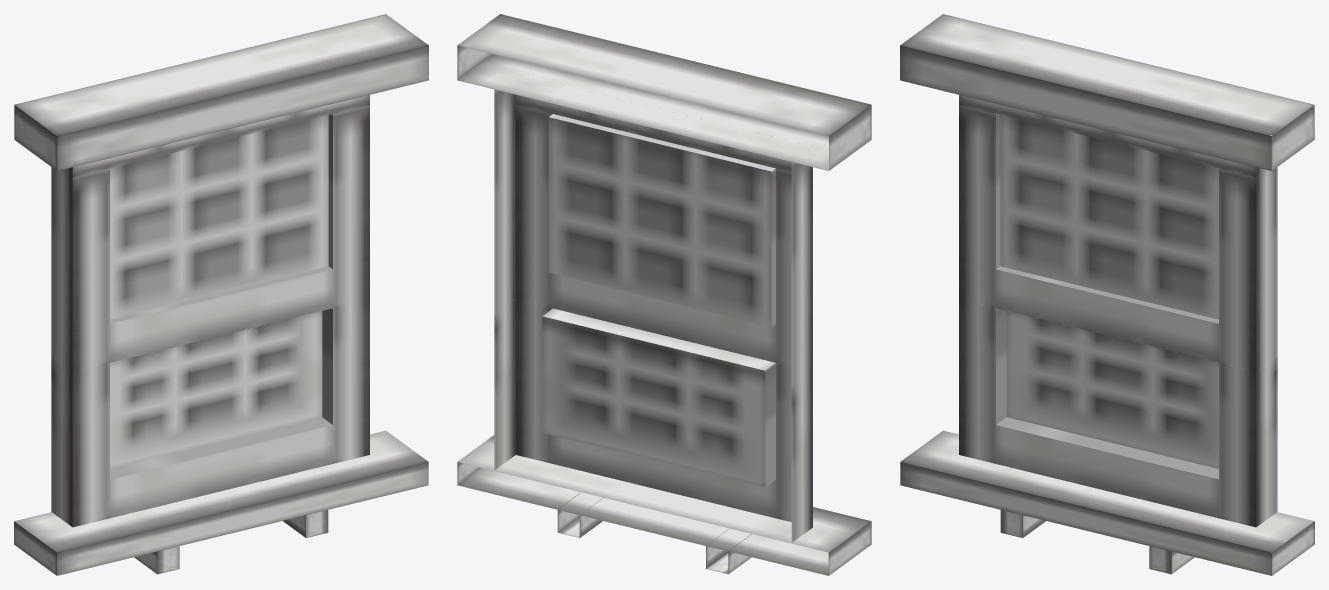
File: Poly_SF_Outside_B_Window_03.obj
3 renders of one model, left to right at view 1: azimuth 30°, elevation 25°; view 2: azimuth 150°, elevation 25°; view 3: azimuth 330°, elevation 25°, orthographic.
Parts seen in each view (by area): view 1: Cube.001, Cube.002, Cube.003; view 2: Cube.001, Cube.002, Cube.003; view 3: Cube.001, Cube.002, Cube.003.
Boxes of the visible parts, bbox=[...] form: Cube.001: bbox=[51, 95, 369, 527]; Cube.002: bbox=[14, 14, 428, 575]; Cube.003: bbox=[134, 510, 328, 574]; Cube.001: bbox=[494, 89, 812, 542]; Cube.002: bbox=[457, 14, 871, 575]; Cube.003: bbox=[557, 492, 751, 574]; Cube.001: bbox=[959, 95, 1277, 527]; Cube.002: bbox=[900, 14, 1314, 575]; Cube.003: bbox=[1000, 510, 1194, 574].
Bounding box in the file's own units: 1 × 1.19 × 0.2006.
Materials: 1 (1 with a texture image).
